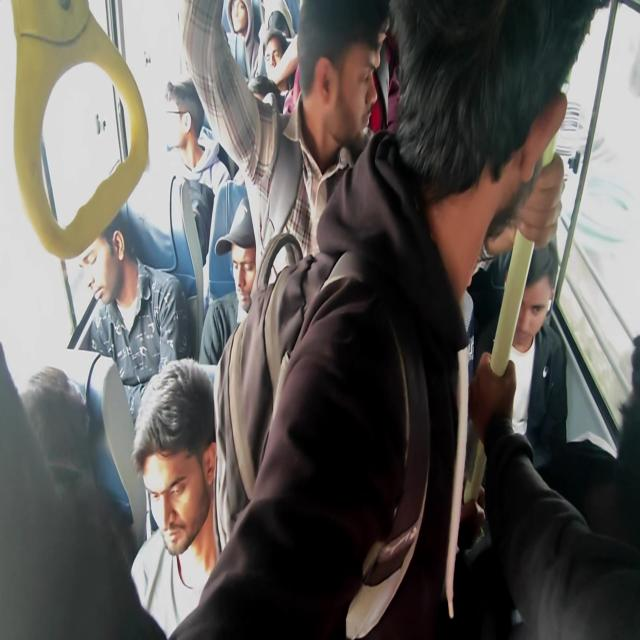person: (167, 0, 606, 638), (181, 0, 391, 292), (467, 334, 639, 638), (0, 342, 168, 638), (129, 357, 222, 637), (467, 234, 568, 478), (78, 209, 191, 423), (198, 196, 257, 365), (165, 77, 232, 196), (262, 27, 298, 90)
